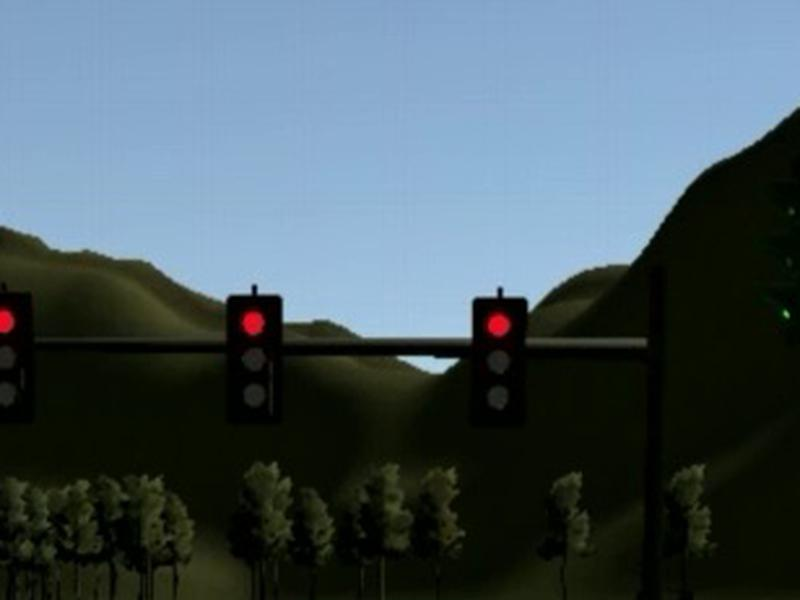Red: (224, 294, 283, 417), (470, 296, 528, 421), (1, 292, 34, 416)
